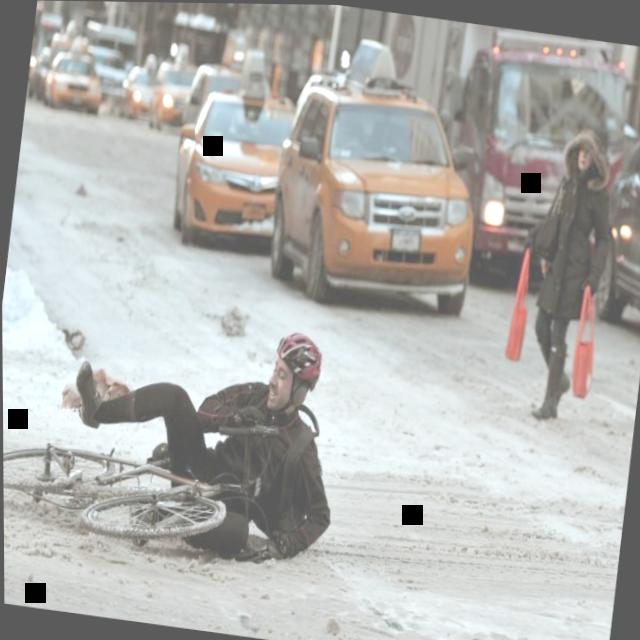Fall-Detected: (31, 279, 363, 562)
